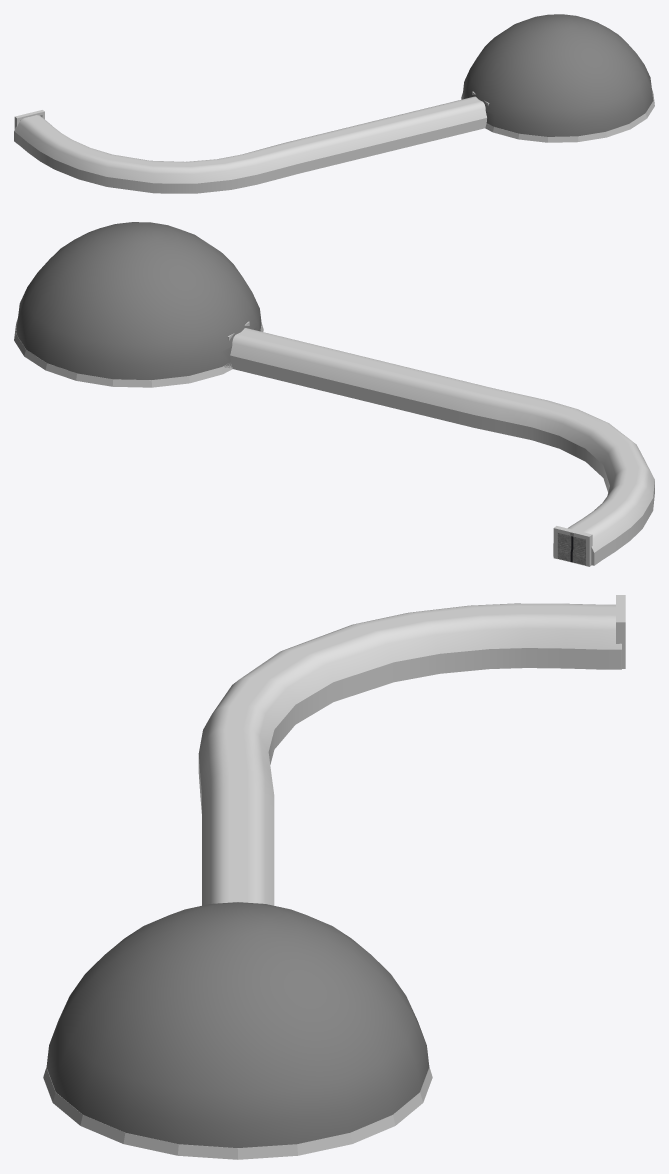
File: Space Dome w Tunnel.fbx
3 renders of one model, top to bottom at view 1: azimuth 30°, elevation 25°; view 2: azimuth 150°, elevation 25°; view 3: azimuth 270°, elevation 25°, orthographic. The views are drawn at different scales.
Parts seen in each view (by area): view 1: pSphere6, pCube1, pSphere5; view 2: pSphere6, pCube1, pSphere5, door:pasted__pCube004; view 3: pSphere6, pCube1, pSphere5.
Boxes of the visible parts, box(x1,y1,x2,y2) form: pSphere6: box(463, 14, 653, 136); pCube1: box(14, 96, 486, 193); pSphere5: box(461, 89, 654, 142); pSphere6: box(16, 222, 261, 379); pCube1: box(230, 328, 654, 565); pSphere5: box(14, 318, 263, 387); door:pasted__pCube004: box(553, 526, 592, 566); pSphere6: box(46, 902, 429, 1147); pCube1: box(198, 603, 621, 905); pSphere5: box(43, 1067, 432, 1159).
Size of the model in its own units: 130 by 18.24 by 61.31.
